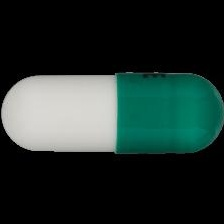21695-093: (0, 0, 224, 224)
